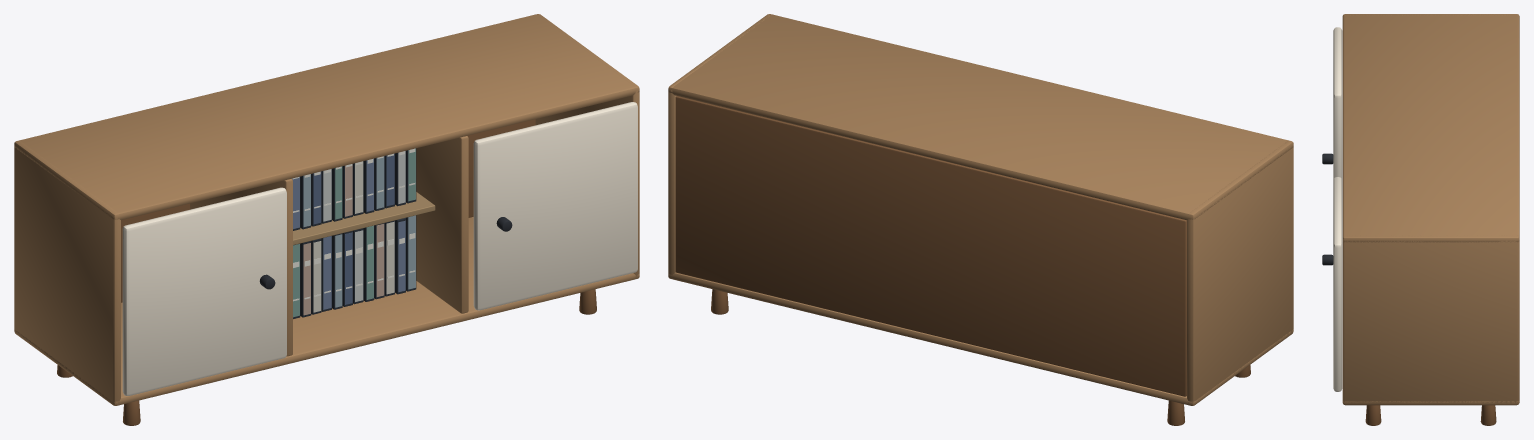
File: tvstand.glb
3 views of the same model, side by side, from view 1: azimuth 30°, elevation 25°; view 2: azimuth 150°, elevation 25°; view 3: azimuth 270°, elevation 25° (orthographic). The views are drawn at different scales.
Parts seen in each view (by area): view 1: tvstand, door_L_mesh, door_R_mesh, cubby_stock; view 2: tvstand; view 3: tvstand, door_R_mesh, door_L_mesh.
Part boxes in pixels (x1,y1,x2,y2): tvstand: [14, 14, 639, 425]; door_L_mesh: [122, 187, 286, 395]; door_R_mesh: [473, 102, 637, 310]; cubby_stock: [292, 148, 435, 318]; tvstand: [668, 14, 1293, 425]; tvstand: [1342, 14, 1519, 425]; door_R_mesh: [1322, 177, 1342, 391]; door_L_mesh: [1322, 27, 1342, 179].
Bounding box in the file's own units: 1.2 × 0.5 × 0.4455.
